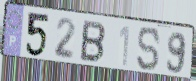1: (119, 25, 131, 68)
2: (53, 16, 77, 62)
5: (24, 12, 52, 59)
9: (165, 31, 188, 75)
B: (78, 19, 107, 65)
S: (136, 26, 162, 72)
